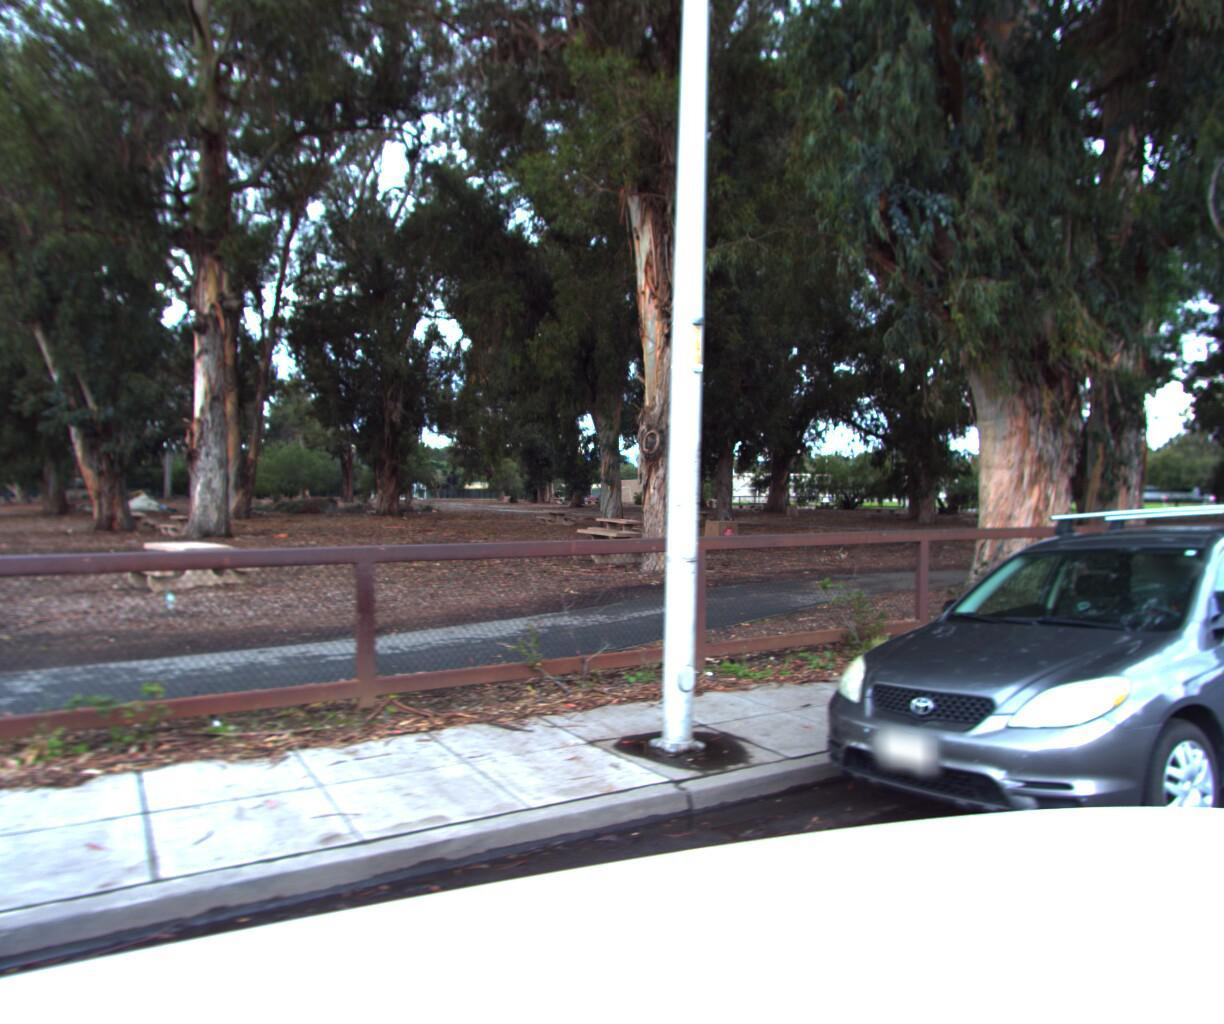car: (778, 496, 1224, 933)
